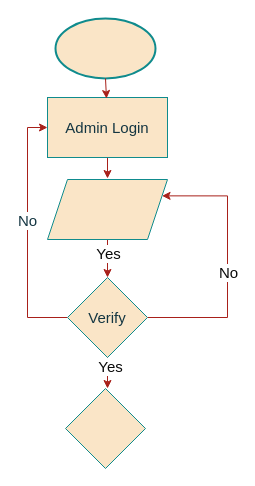
The diagram is 255 pixels wide and 486 high, and some of its shapes have lost their labels. The centre of each missing label's shape, as x and y in pixels:
"Start" belongs at (105,48).
"Username Password" belongs at (107,209).
